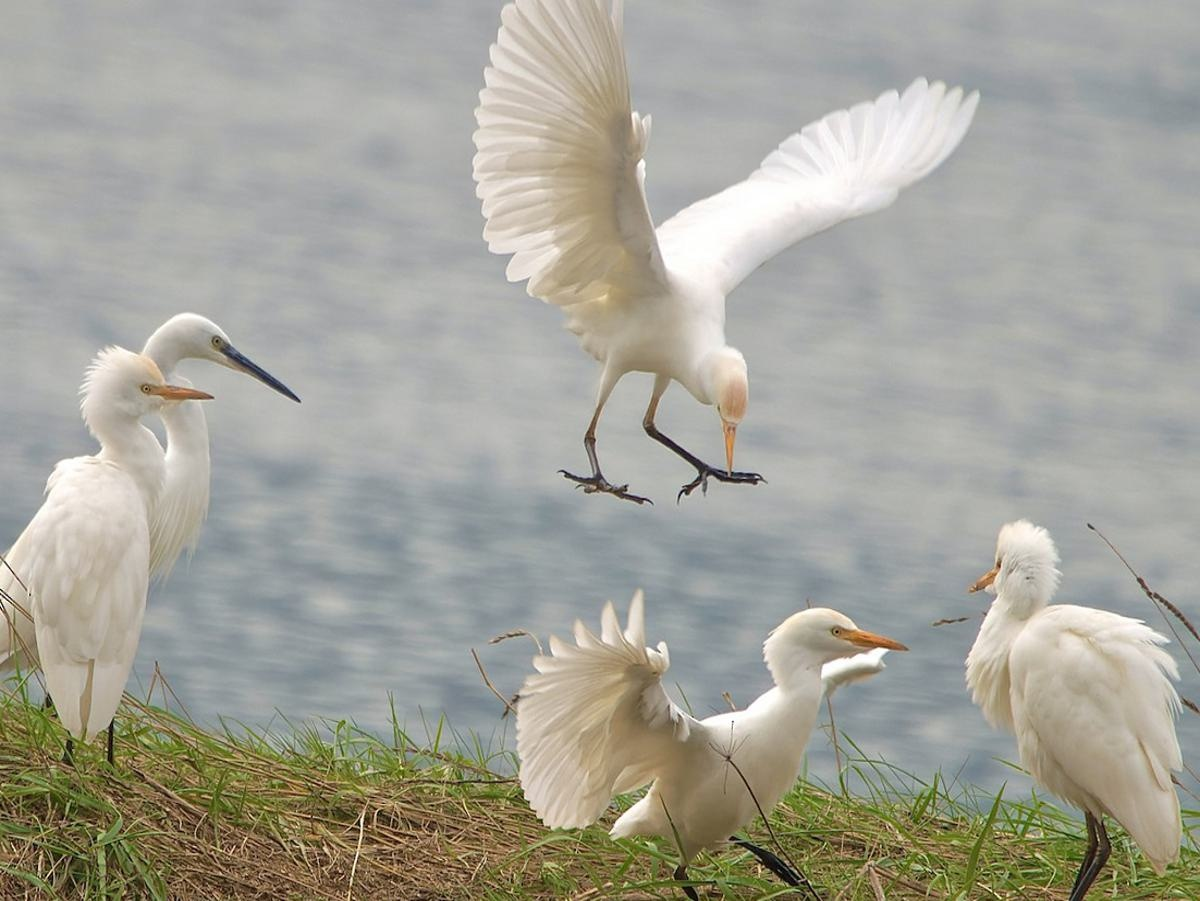egret: (404, 1, 861, 512), (499, 584, 928, 875), (955, 520, 1200, 901), (1, 341, 203, 713), (150, 306, 317, 409)
